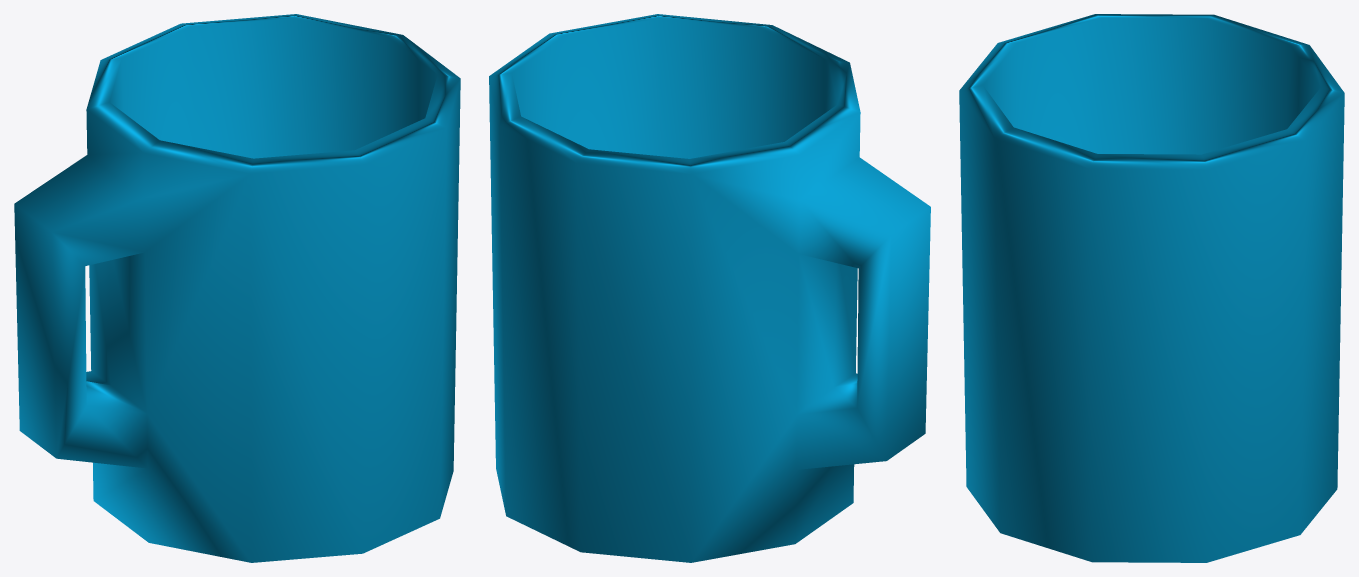
File: Mug_01_Lod2.fbx
3 views of the same model, side by side, from view 1: azimuth 30°, elevation 25°; view 2: azimuth 150°, elevation 25°; view 3: azimuth 270°, elevation 25° (orthographic).
Visible parts, largest first — view 1: Mug_01_Lod2; view 2: Mug_01_Lod2; view 3: Mug_01_Lod2.
Part boxes in pixels (x1,y1,x2,y2): Mug_01_Lod2: (14,14,460,562); Mug_01_Lod2: (489,14,930,562); Mug_01_Lod2: (959,14,1344,562).
Size of the model in its own units: 10.13 by 9.79 by 8.43.
